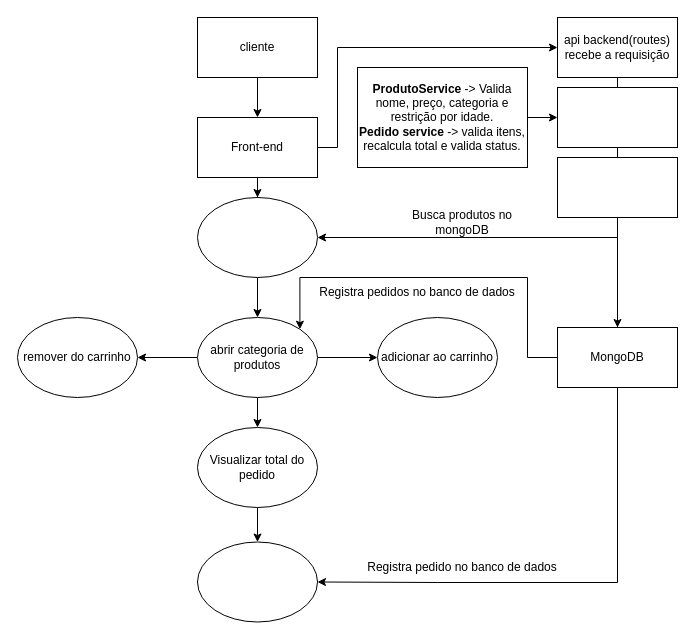
Some shapes in this 695 by 640 pixel diagram are drawn without their labels. The shapes that lost their labels are listed below. From the top down, each one's box as (x1, y1, x2, y2) in pixels, then its label:
(556, 86, 678, 148): Services (Aplica as regras de negócio)
(556, 156, 678, 218): Models - Acessa o banco dados
(196, 196, 318, 278): visualizar cardapio
(196, 541, 318, 622): finalizar pedido
